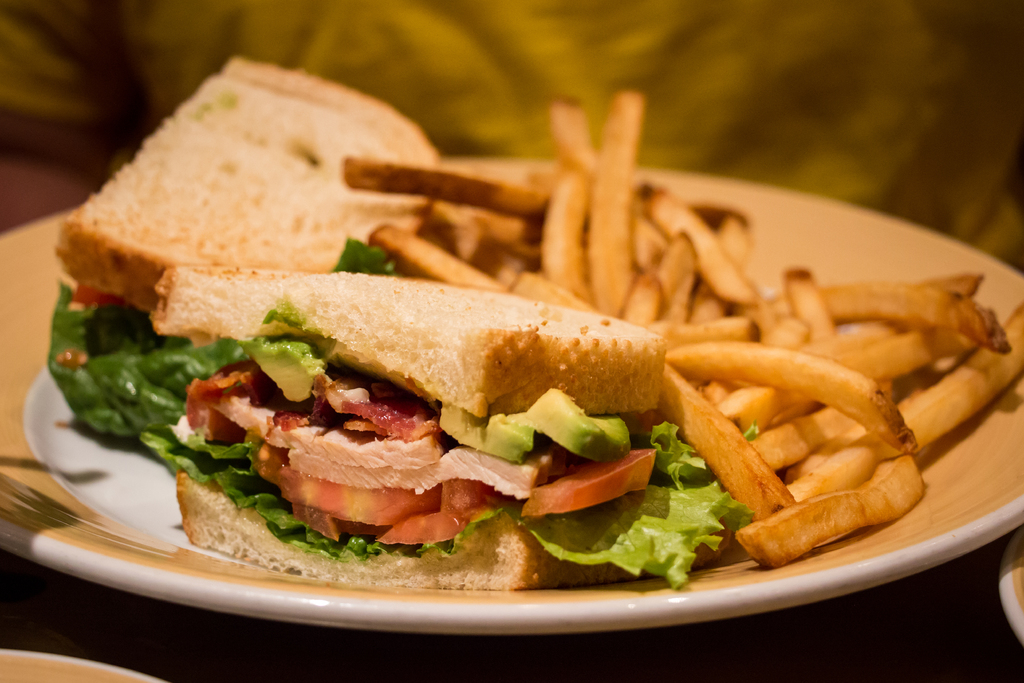French fries: (344, 99, 816, 343)
